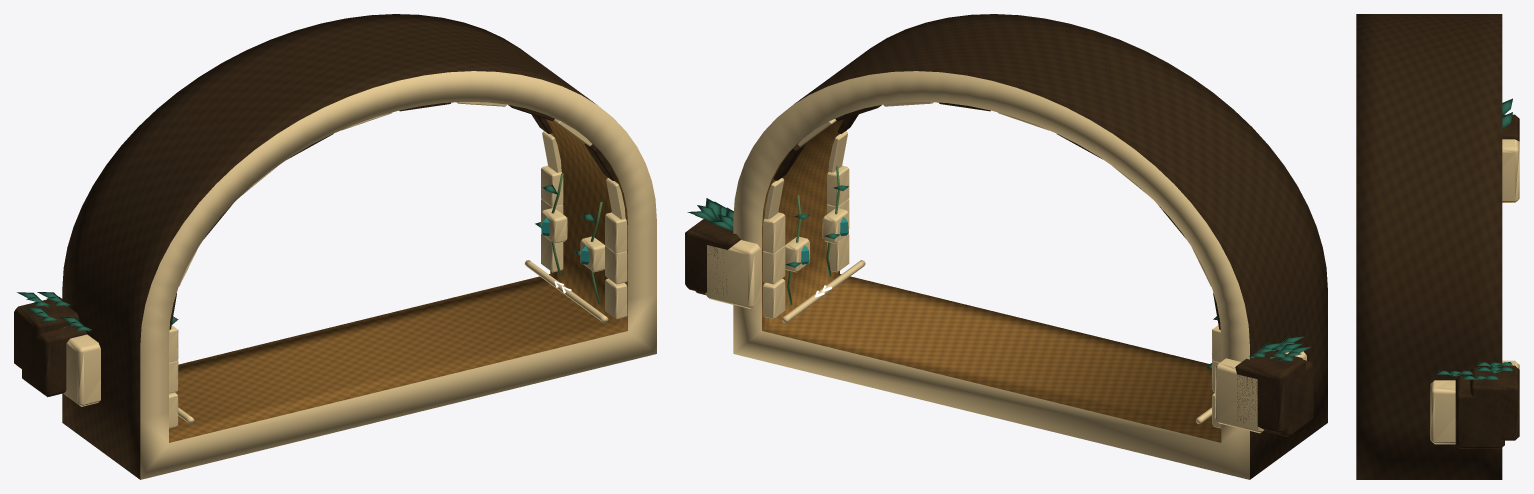
The model's file is portal_exit_lod1.glb.
3 views of the same model, side by side, from view 1: azimuth 30°, elevation 25°; view 2: azimuth 150°, elevation 25°; view 3: azimuth 270°, elevation 25° (orthographic). The views are drawn at different scales.
Visible parts, largest first — view 1: TunnelGeometry.001; view 2: TunnelGeometry.001; view 3: TunnelGeometry.001.
Part boxes in pixels (<box>): TunnelGeometry.001: <box>14,14,656,479</box>; TunnelGeometry.001: <box>685,14,1327,479</box>; TunnelGeometry.001: <box>1356,14,1519,479</box>.
Bounding box in the file's own units: 17.75 × 9.52 × 4.48.
Materials: 7 (2 with a texture image).
